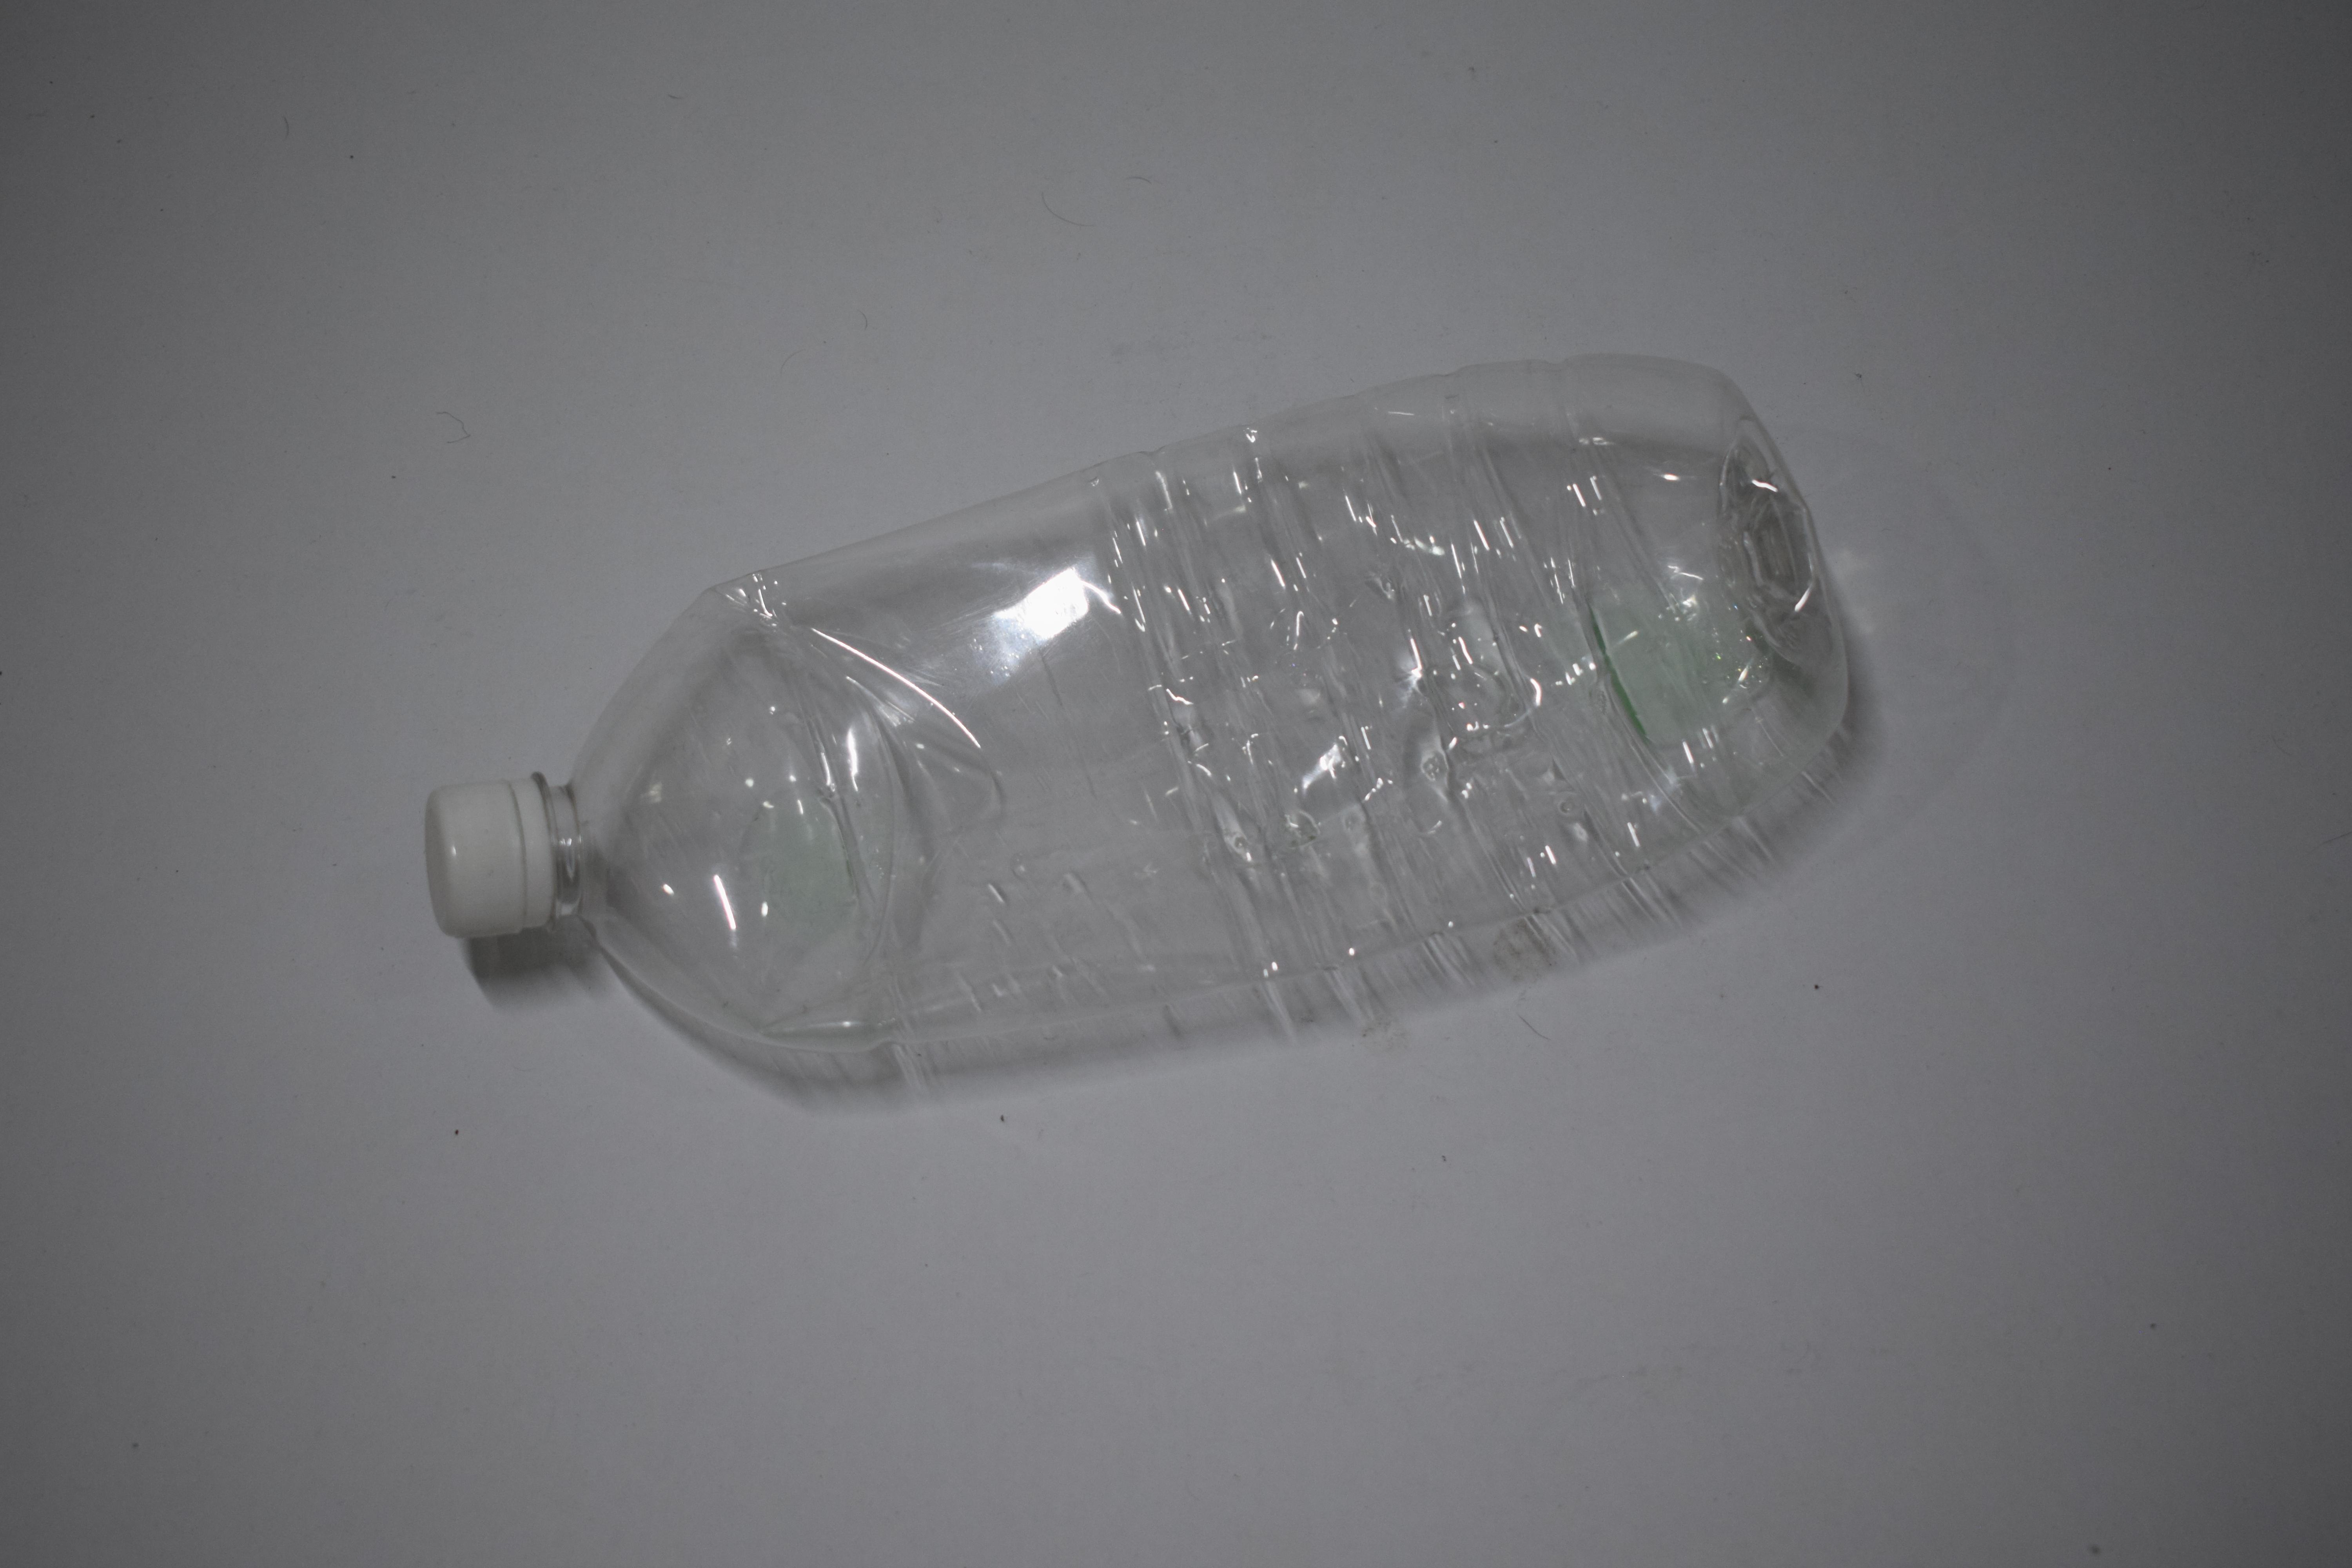bottle: (413, 338, 1848, 1062)
